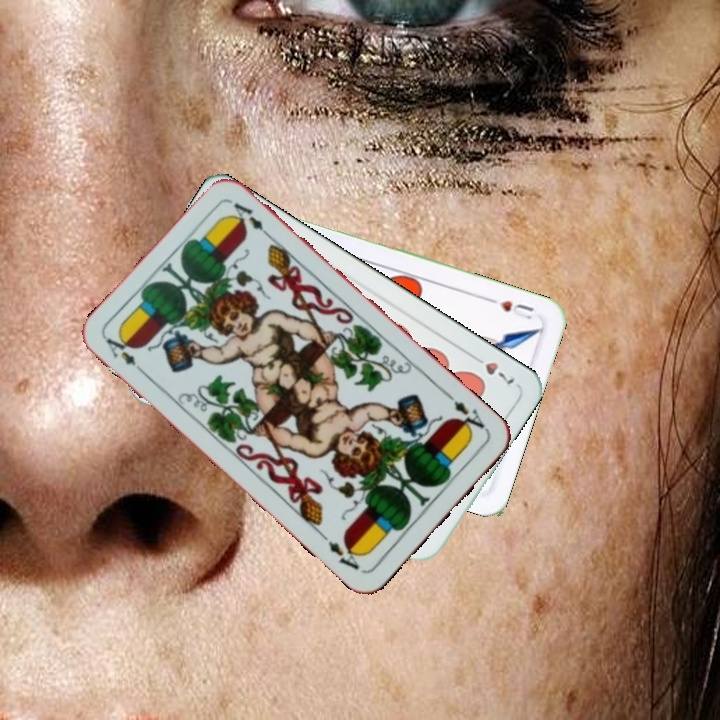EA: (101, 332, 149, 378), (449, 396, 491, 436)
H7: (466, 350, 518, 387)
HU: (484, 294, 537, 323)
